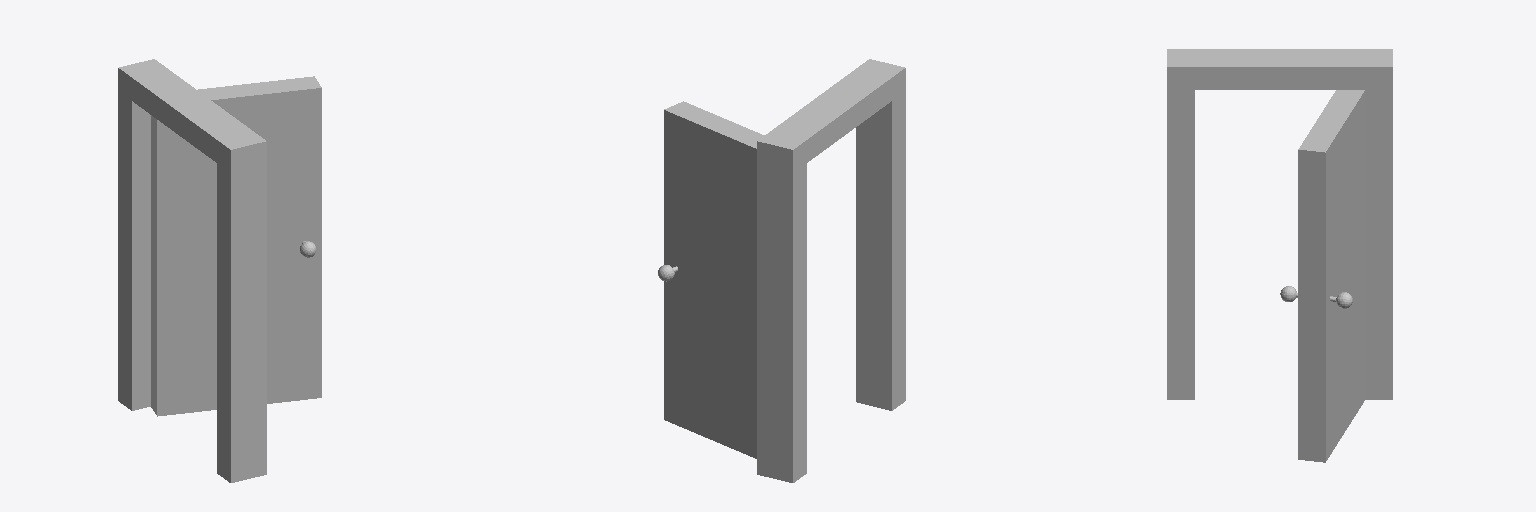
The model's file is Modelo_Puerta.obj.
The picture shows the model from 3 angles: view 1: azimuth 30°, elevation 25°; view 2: azimuth 150°, elevation 25°; view 3: azimuth 270°, elevation 25°; orthographic projection.
Parts seen in each view (by area): view 1: Door; view 2: Door; view 3: Door.
Boxes of the visible parts, x1=… form: Door: x1=118, y1=59, x2=321, y2=482; Door: x1=658, y1=59, x2=905, y2=482; Door: x1=1167, y1=49, x2=1392, y2=462.
Bounding box in the file's own units: 56.05 × 110 × 67.05.